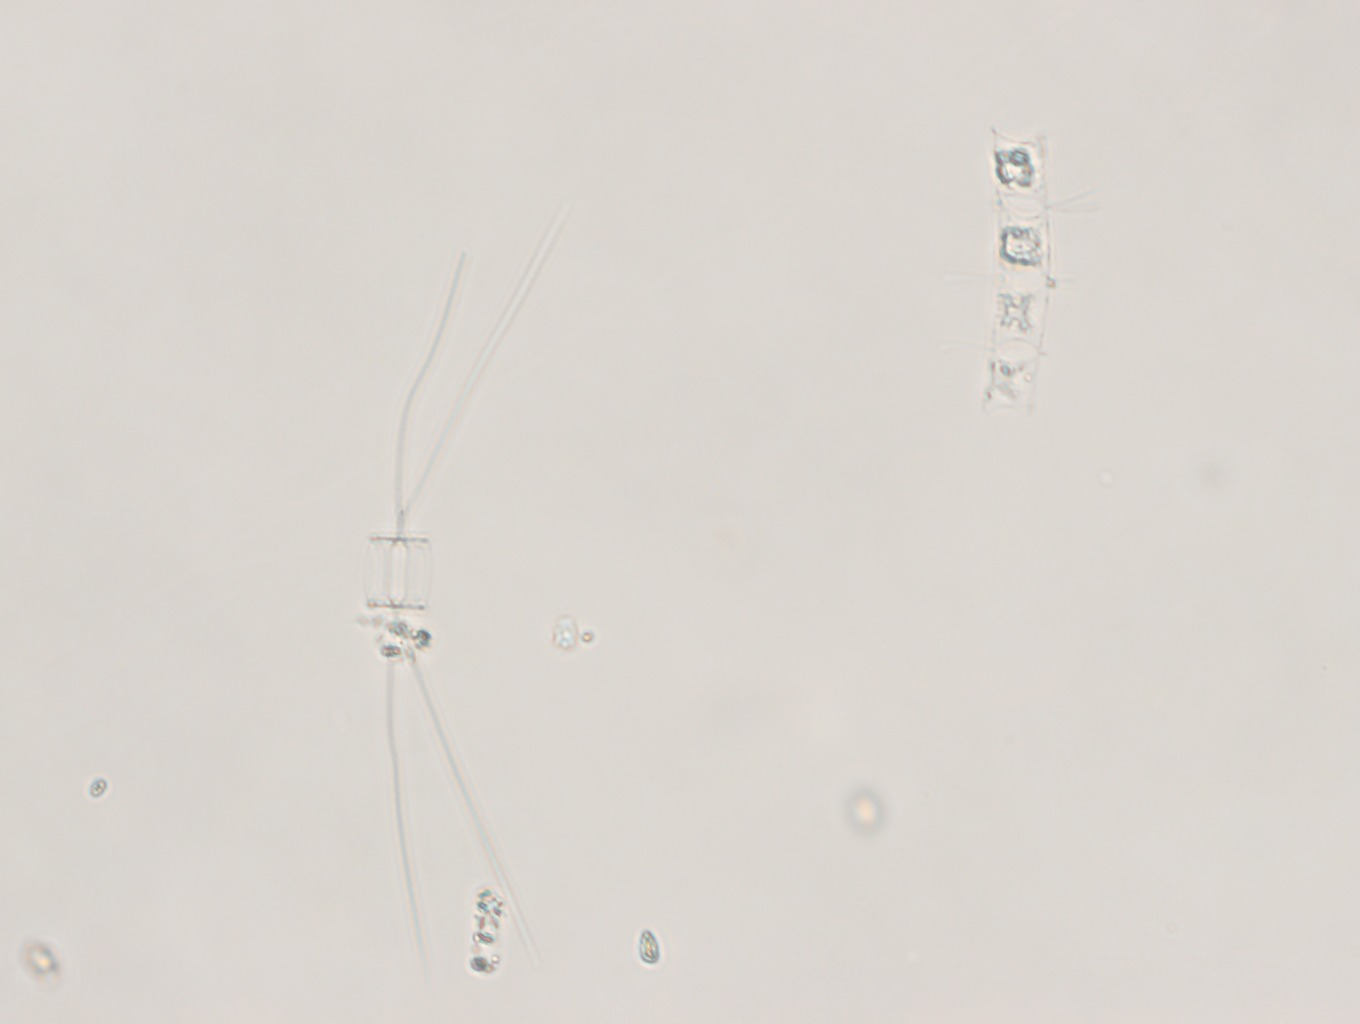chaetoceros: (337, 204, 575, 948), (967, 119, 1073, 447)
